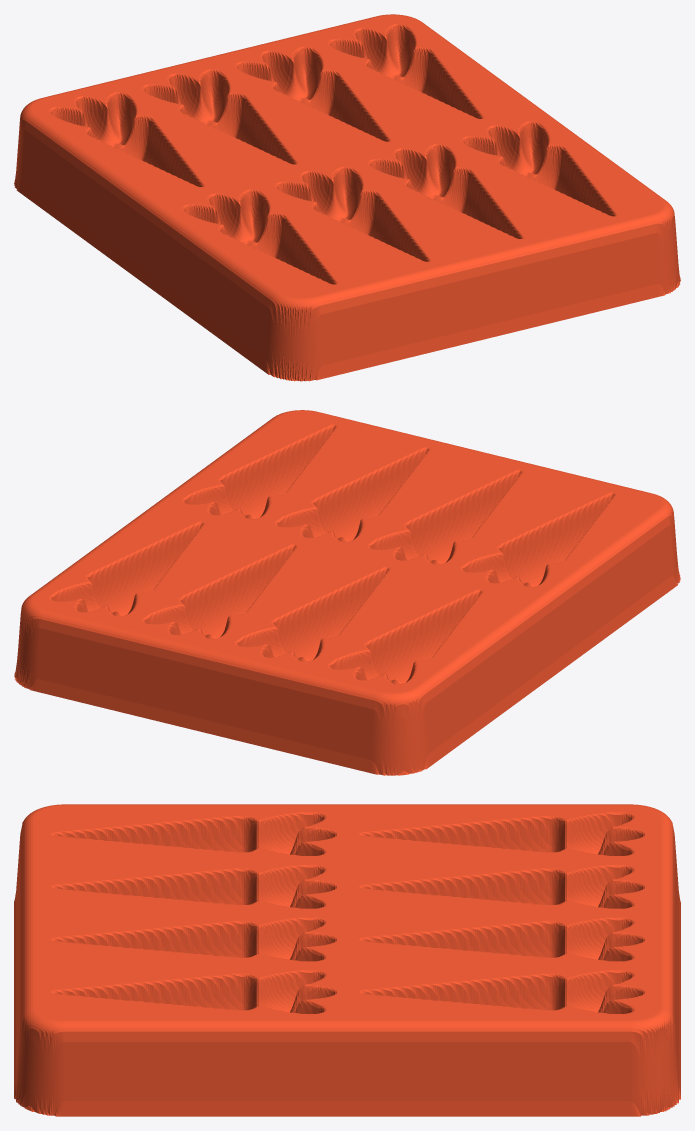
File: mold.glb
3 renders of one model, top to bottom at view 1: azimuth 30°, elevation 25°; view 2: azimuth 150°, elevation 25°; view 3: azimuth 270°, elevation 25°, orthographic. The views are drawn at different scales.
Parts seen in each view (by area): view 1: geometry_0; view 2: geometry_0; view 3: geometry_0.
Boxes of the visible parts, <box> form: geometry_0: <box>14,14,680,381</box>; geometry_0: <box>14,410,680,775</box>; geometry_0: <box>14,804,680,1116</box>.
Size of the model in its own units: 0.0995 by 0.0175 by 0.1209.
